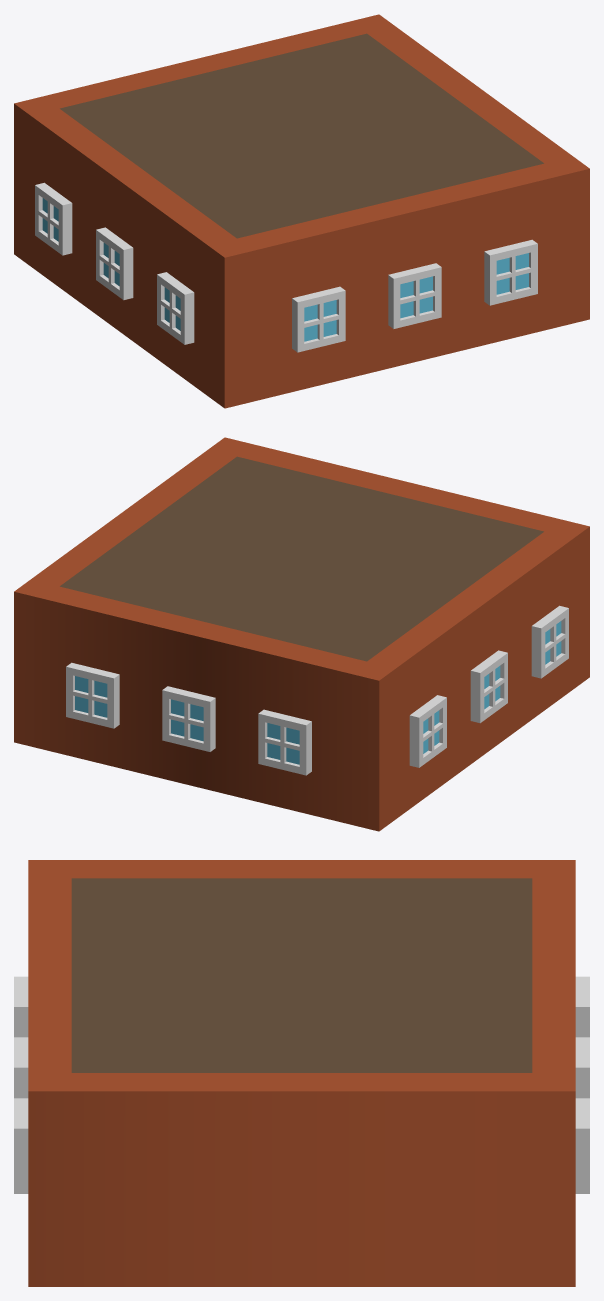
Rendered from baseFill.fbx.
3 renders of one model, top to bottom at view 1: azimuth 30°, elevation 25°; view 2: azimuth 150°, elevation 25°; view 3: azimuth 270°, elevation 25°, orthographic. The views are drawn at different scales.
Visible parts, largest first — view 1: BaseHouse, Window8, Window6, Window7, Window1, Window2, Window; view 2: BaseHouse, Window5, Window3, Window4, Window2, Window1, Window; view 3: BaseHouse, Window4, Window7, Window3, Window6, Window5, Window8.
Boxes of the visible parts, x1,y1,x2,y2 form: BaseHouse: (14,14,589,408); Window8: (292,286,345,352); Window6: (388,263,441,328); Window7: (484,239,537,305); Window1: (35,182,72,255); Window2: (157,272,194,344); Window: (96,227,133,300); BaseHouse: (14,437,589,831); Window5: (258,709,311,775); Window3: (162,686,215,751); Window4: (66,662,119,728); Window2: (531,605,568,678); Window1: (409,695,446,767); Window: (470,650,507,723); BaseHouse: (28,860,575,1286); Window4: (575,1098,589,1193); Window7: (14,1098,28,1193); Window3: (575,1037,589,1098); Window6: (14,1037,28,1098); Window5: (575,976,589,1037); Window8: (14,976,28,1037).
Size of the model in its own units: 9.75 by 3.75 by 10.
